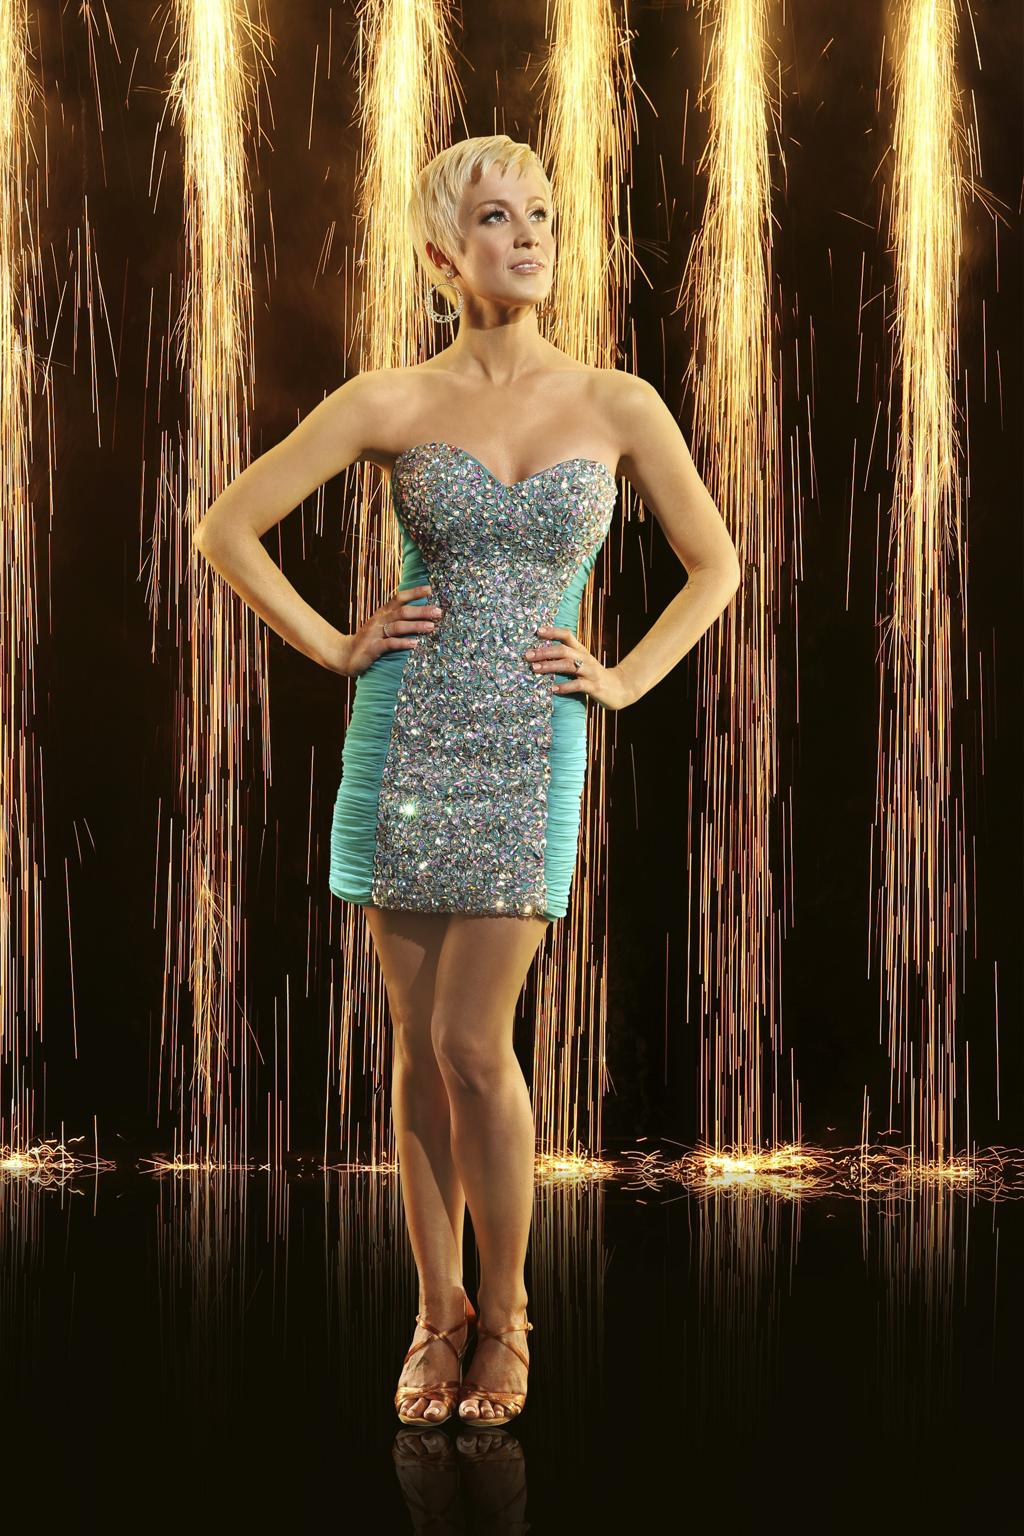face: (463, 163, 559, 304)
